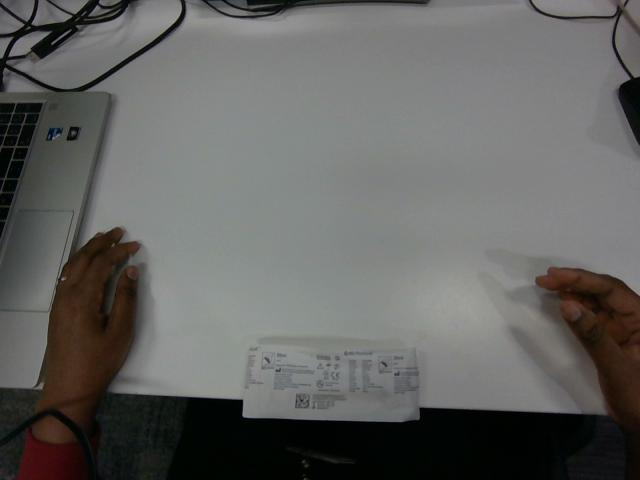syringe: (245, 344, 419, 421)
